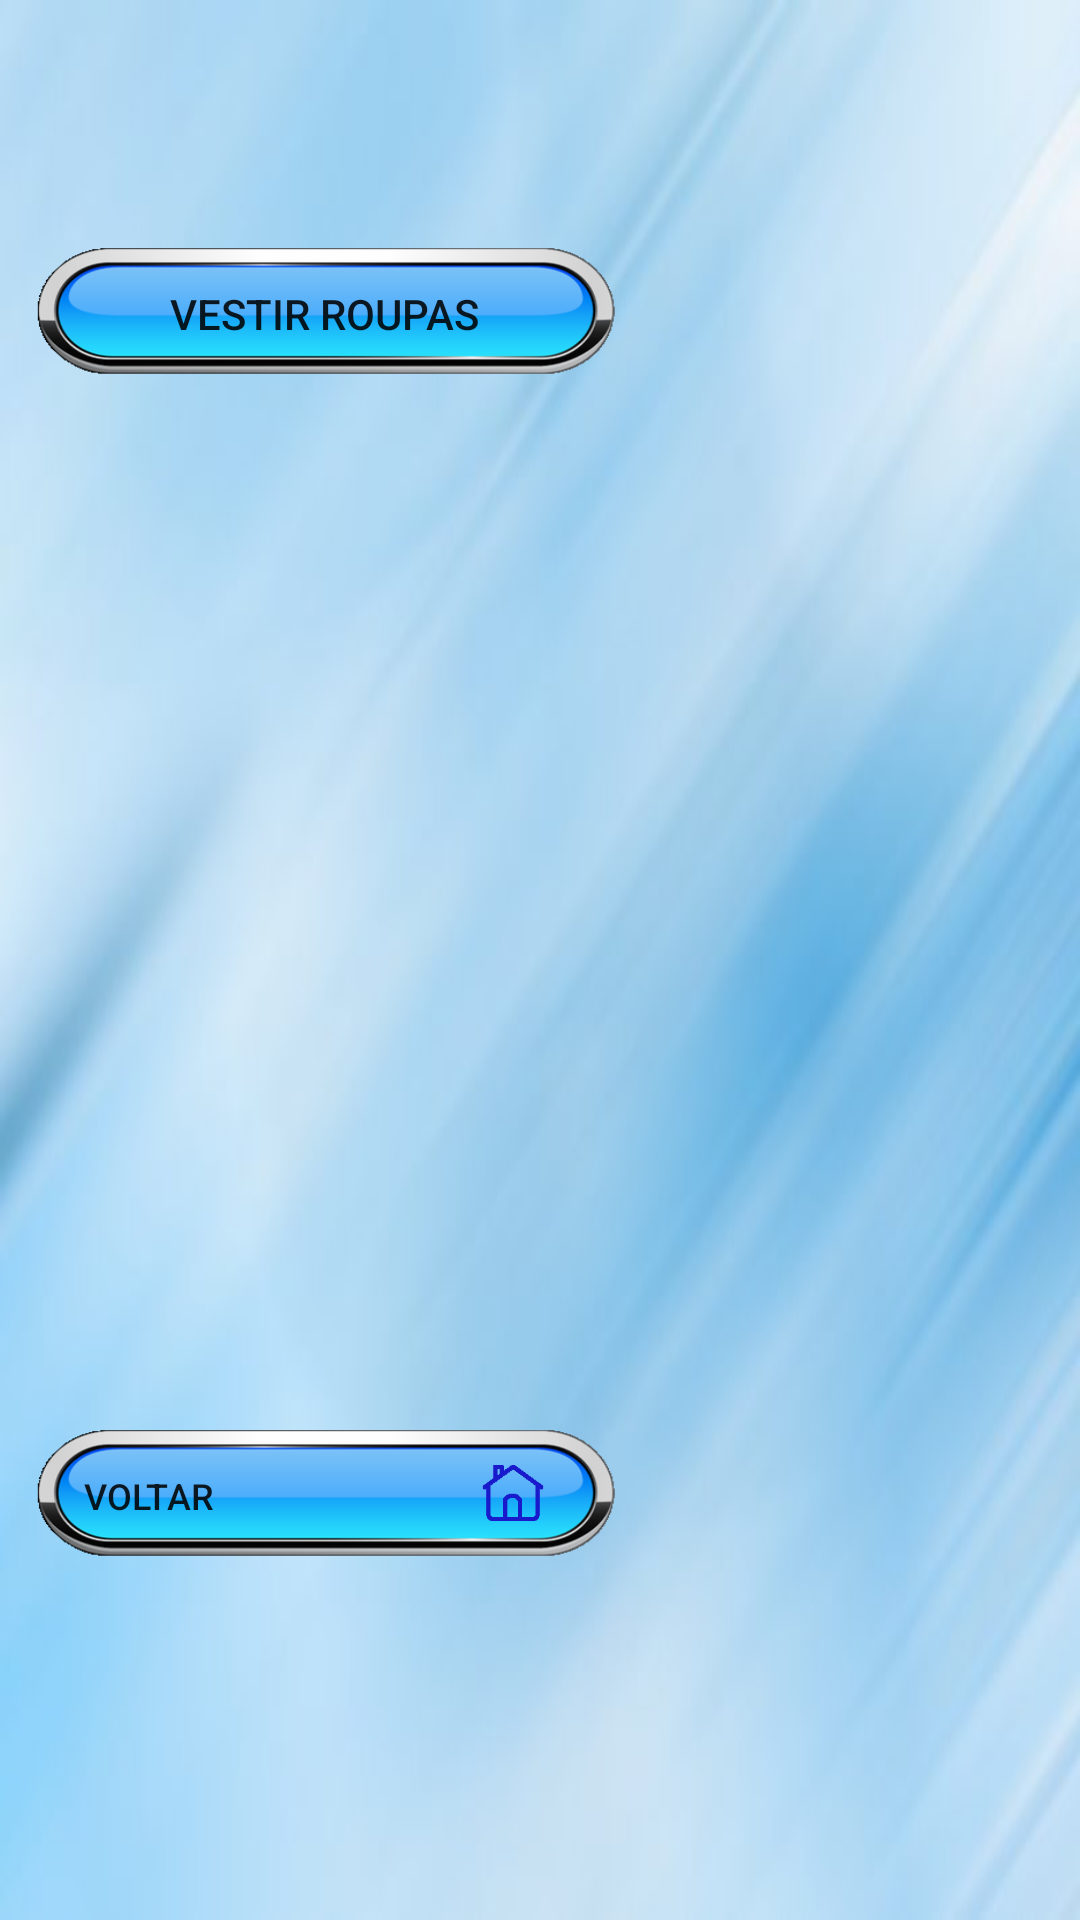

Named icons in this screenshot (1080w x 1920h) and their centers, [x,y]:
homepress: [513,1493]
